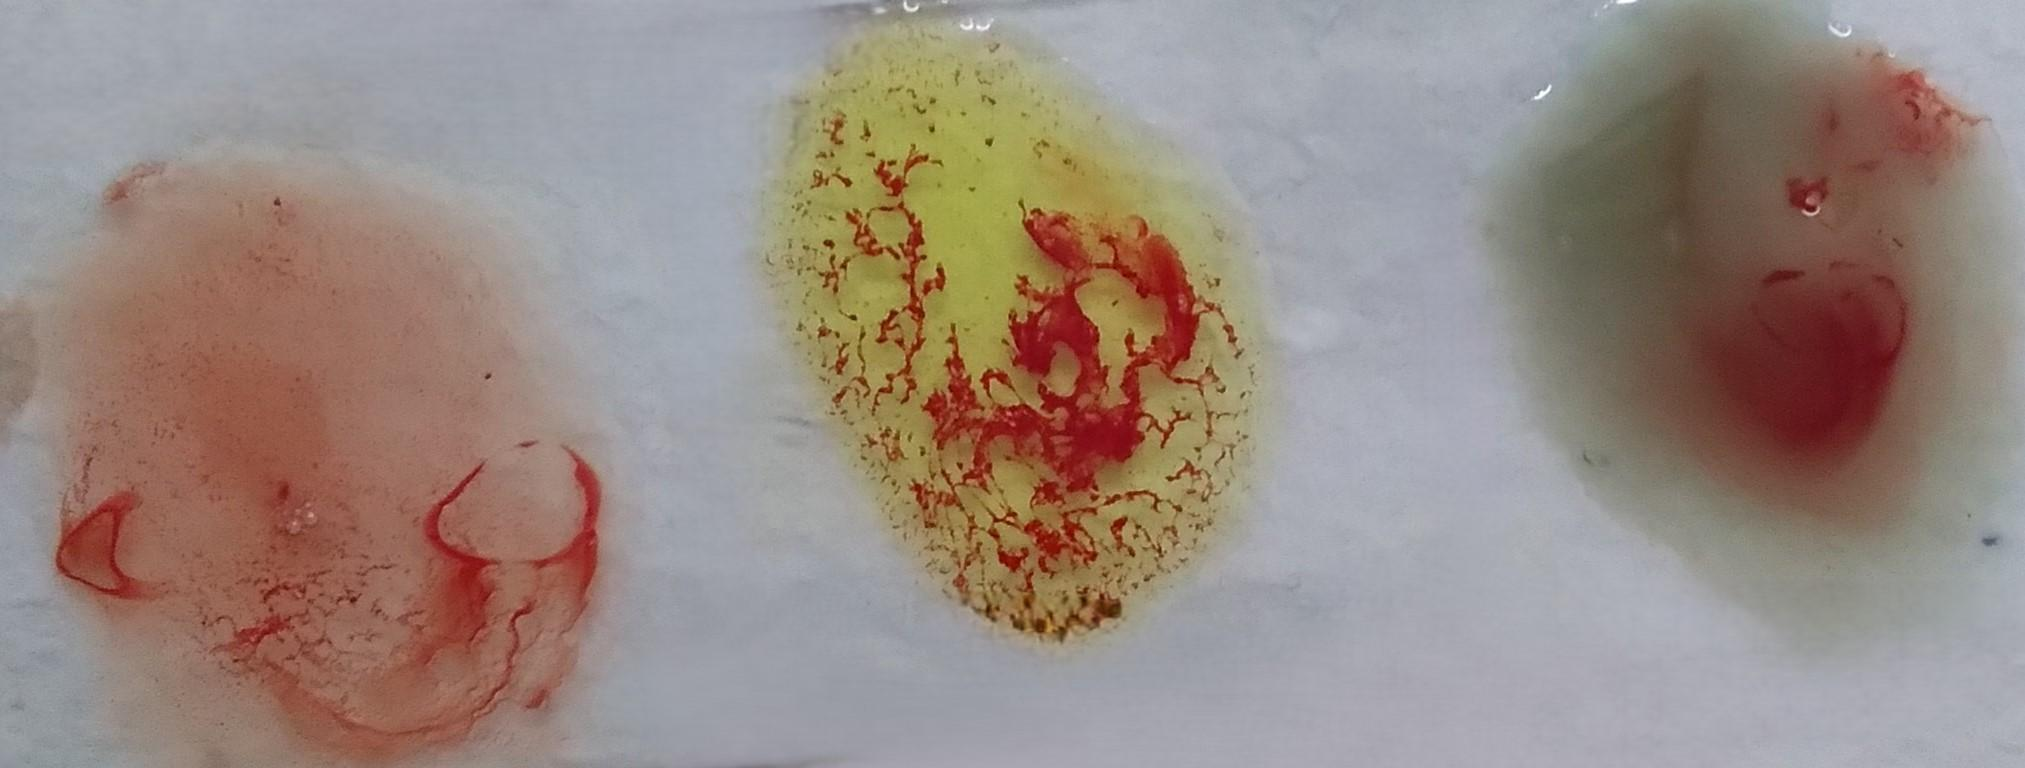B: (771, 6, 1245, 645)
D: (62, 208, 602, 765)
